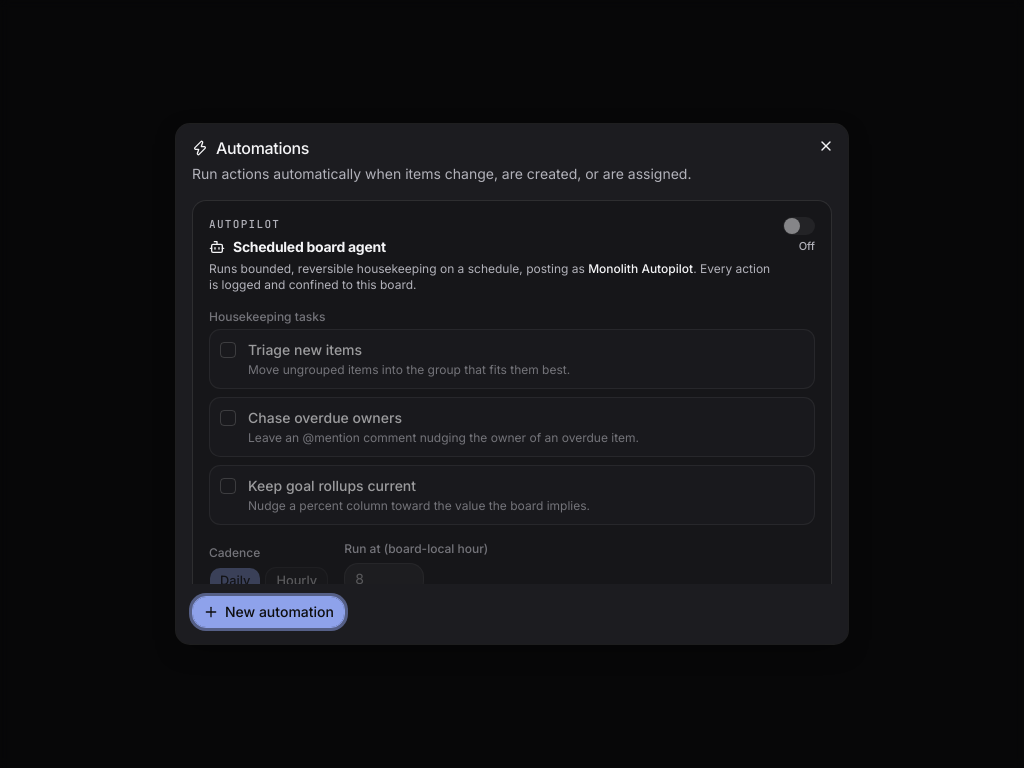
Test: AutomationsDialog › switches to build mode when 'New automation' is clicked
Click the button "New automation" at (268, 612), box 192,596 -> 345,628
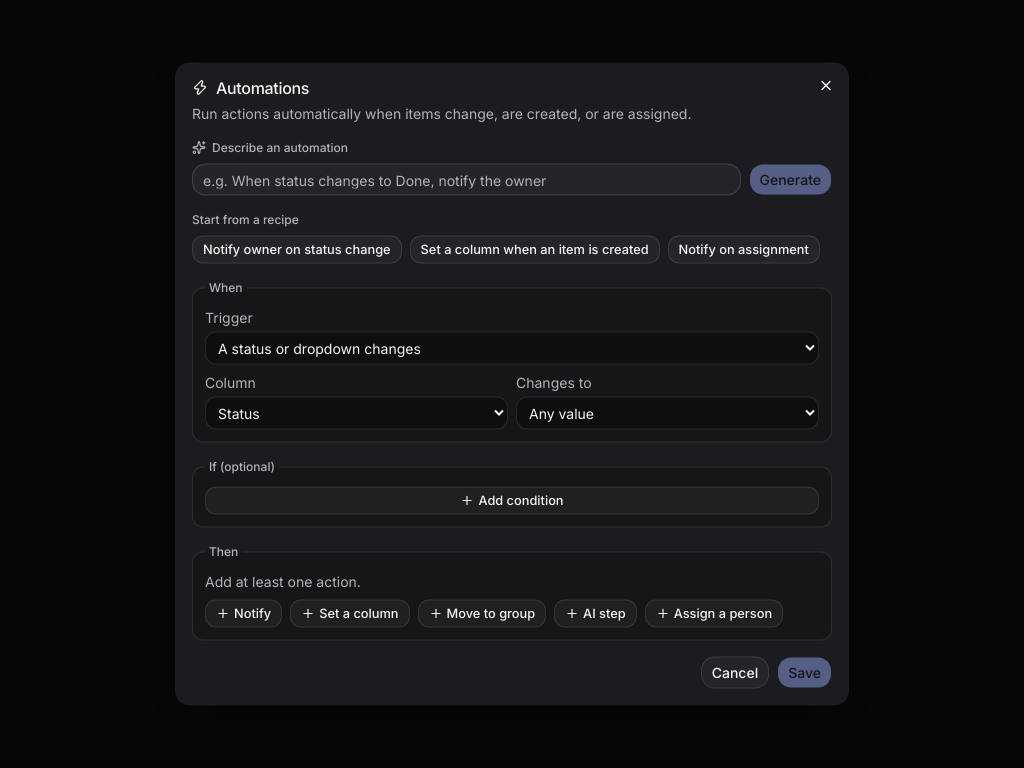
Expected: the dropdown named "Trigger type" is shown, 205,332 -> 819,364
